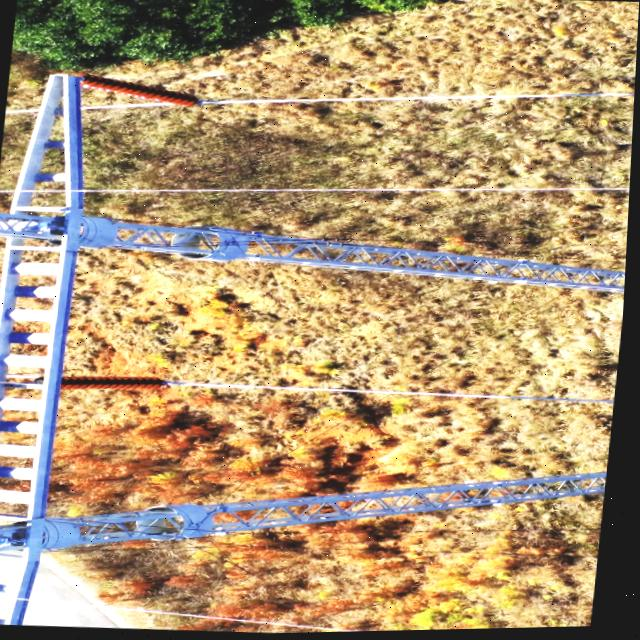poles: (0, 74, 628, 625)
wires: (79, 378, 618, 406), (120, 609, 373, 633), (196, 95, 636, 106), (0, 189, 632, 194), (81, 87, 186, 111), (80, 76, 119, 94), (16, 207, 67, 212)
